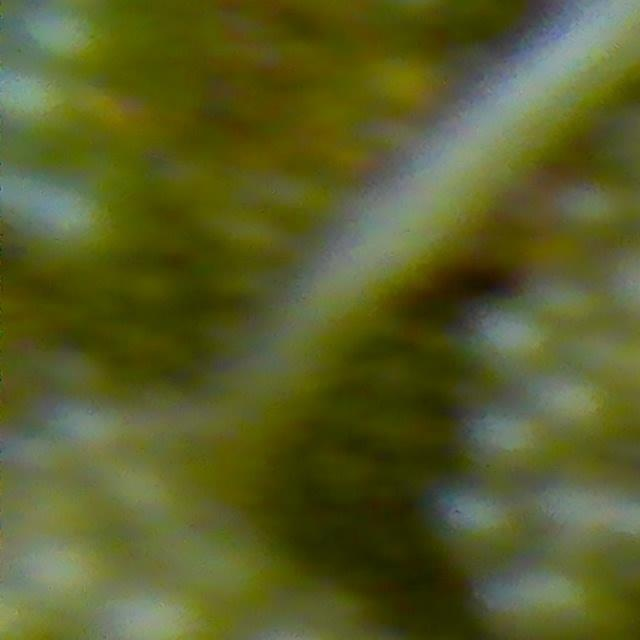SeaGrape: (7, 172, 126, 276), (479, 555, 606, 637), (28, 528, 120, 636), (20, 0, 124, 84), (442, 470, 521, 576), (527, 377, 627, 456), (0, 60, 84, 148), (36, 398, 129, 465), (95, 586, 203, 640), (527, 467, 597, 546), (482, 307, 552, 371), (474, 412, 547, 470), (562, 182, 625, 246), (539, 279, 606, 321)
